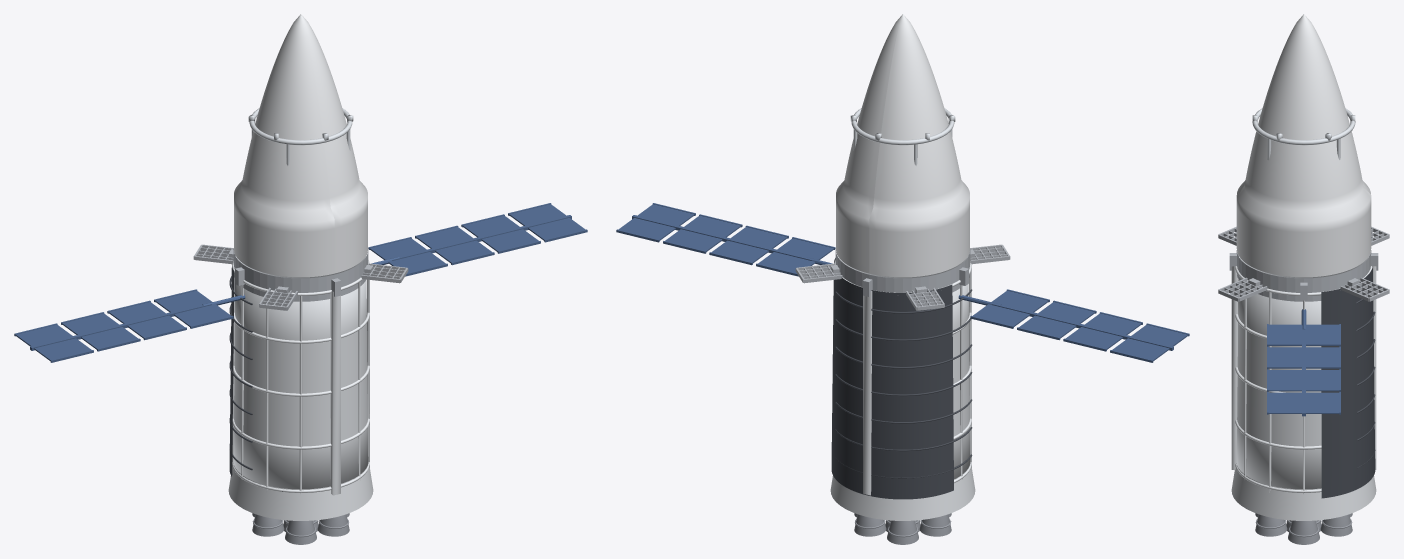
The model's file is orbital-craft.glb.
The picture shows the model from 3 angles, left to right: view 1: azimuth 30°, elevation 25°; view 2: azimuth 150°, elevation 25°; view 3: azimuth 270°, elevation 25°; orthographic projection.
Visible parts, largest first — view 1: BoosterStage, FairingPort, SolarWingPort, SolarWingStarboard, FairingStarboard, InterstageGridFins, EngineBellCluster, PayloadBayFrame, HeatShieldBelly; view 2: HeatShieldBelly, FairingPort, BoosterStage, SolarWingPort, SolarWingStarboard, FairingStarboard, InterstageGridFins, EngineBellCluster, PayloadBayFrame; view 3: FairingStarboard, BoosterStage, HeatShieldBelly, SolarWingStarboard, InterstageGridFins, EngineBellCluster, PayloadBayFrame, FairingPort.
Boxes of the visible parts, box(x1,y1,x2,y2) form: BoosterStage: box(228, 260, 373, 520); FairingPort: box(234, 14, 334, 277); SolarWingPort: box(14, 289, 245, 362); SolarWingStarboard: box(368, 203, 587, 276); FairingStarboard: box(301, 14, 367, 273); InterstageGridFins: box(193, 244, 408, 310); EngineBellCluster: box(252, 513, 349, 544); PayloadBayFrame: box(235, 108, 366, 278); HeatShieldBelly: box(229, 267, 252, 476); HeatShieldBelly: box(831, 258, 972, 499); FairingPort: box(869, 14, 969, 277); BoosterStage: box(830, 260, 975, 520); SolarWingPort: box(958, 289, 1189, 362); SolarWingStarboard: box(616, 203, 835, 276); FairingStarboard: box(836, 14, 902, 273); InterstageGridFins: box(795, 244, 1010, 310); EngineBellCluster: box(854, 513, 951, 544); PayloadBayFrame: box(837, 108, 968, 278); FairingStarboard: box(1236, 14, 1371, 277); BoosterStage: box(1231, 266, 1376, 520); HeatShieldBelly: box(1321, 267, 1375, 498); SolarWingStarboard: box(1267, 309, 1340, 416); InterstageGridFins: box(1218, 226, 1389, 301); EngineBellCluster: box(1255, 513, 1352, 544); PayloadBayFrame: box(1239, 108, 1368, 278); FairingPort: box(1237, 16, 1370, 193).
Bounding box in the file's own units: 5.34 × 4.85 × 1.47.
